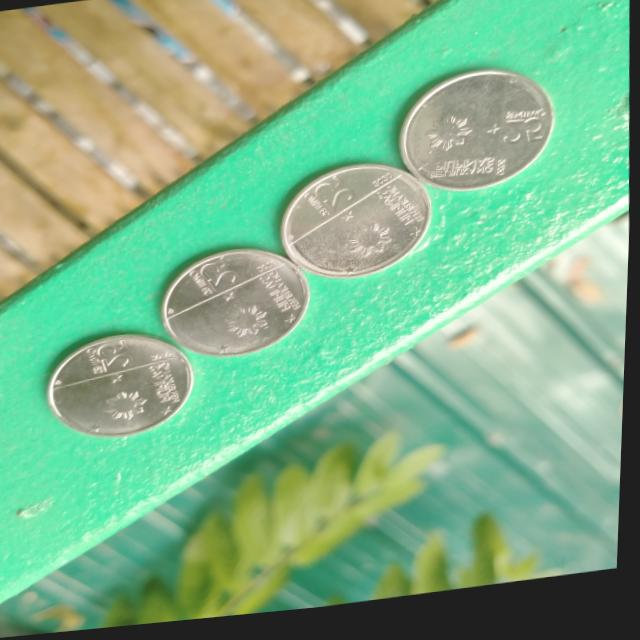25Cent_New_Front: (414, 98, 553, 194), (301, 169, 421, 278), (180, 256, 304, 354)
